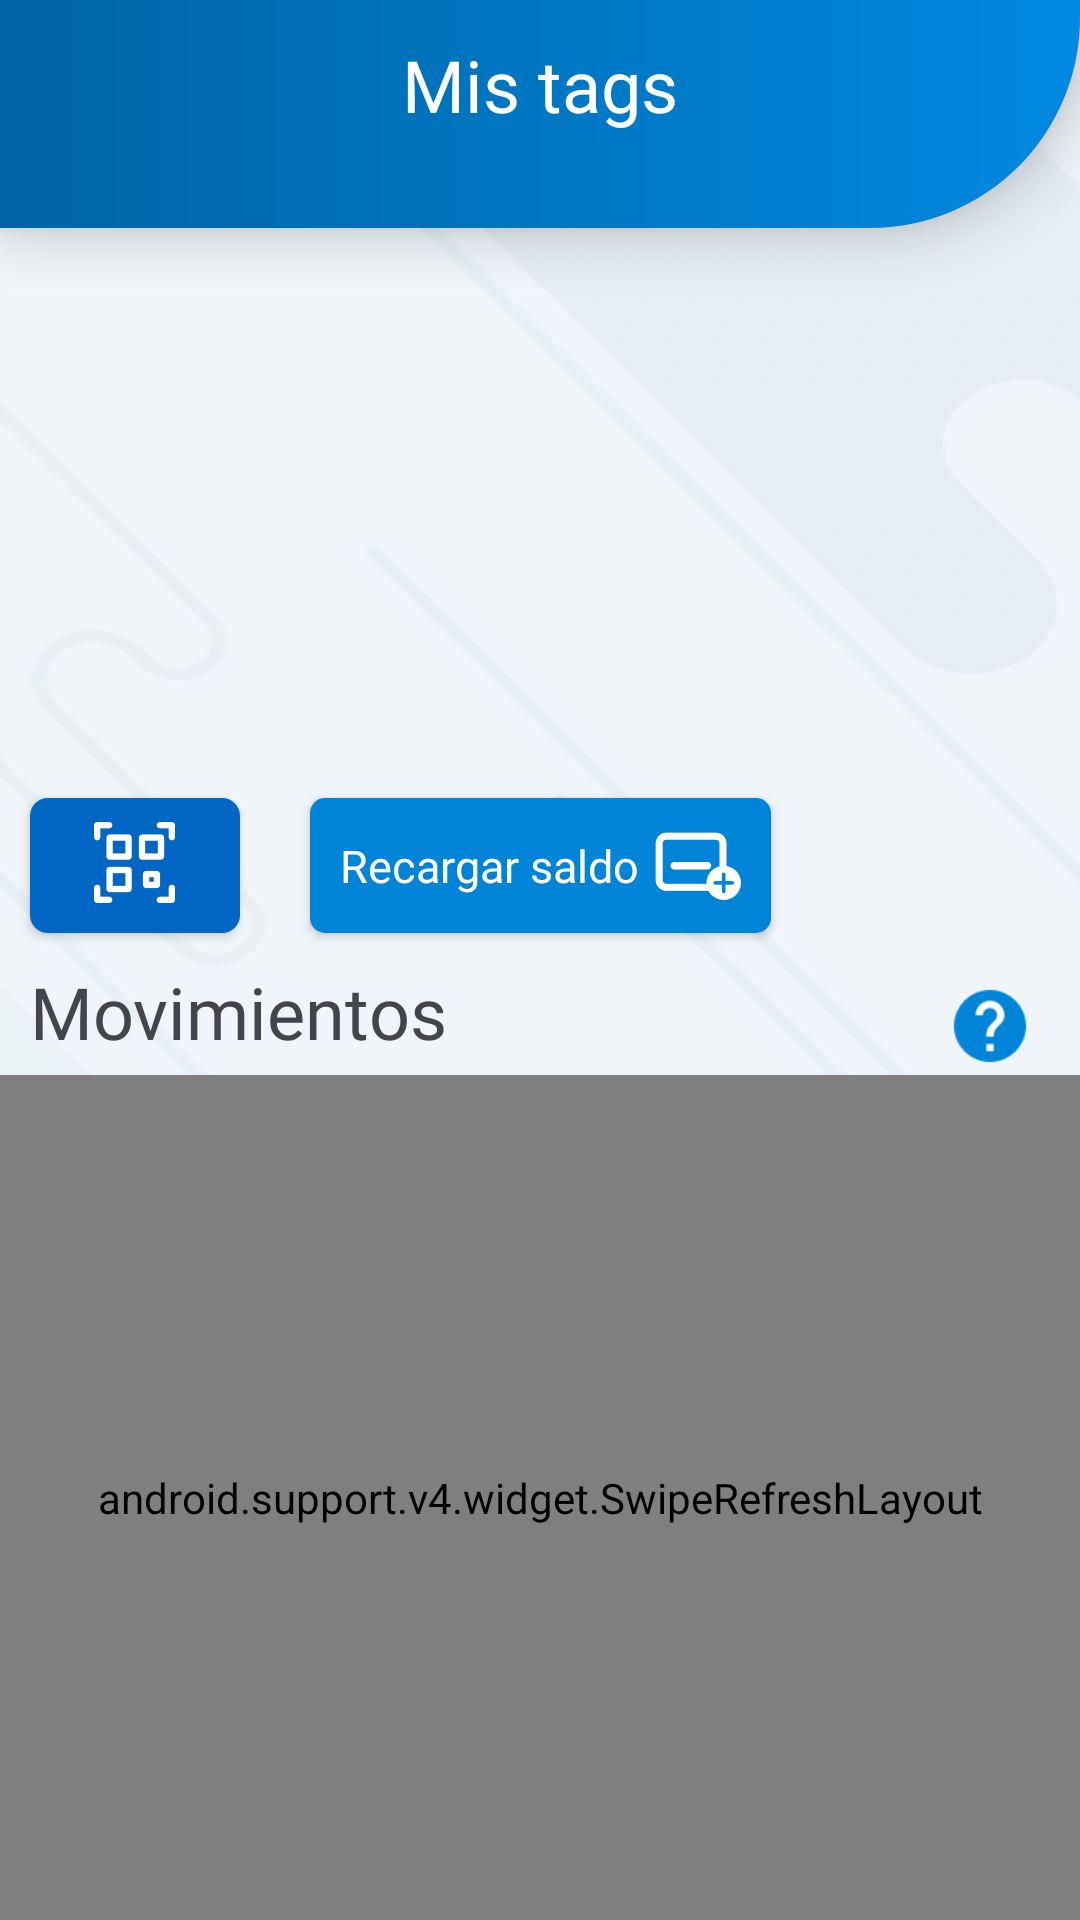

Screen size 1080*1920. Icon name, then its box in pixels as BBox(x1, y1, x2, y2):
question: BBox(953, 989, 1027, 1063)
